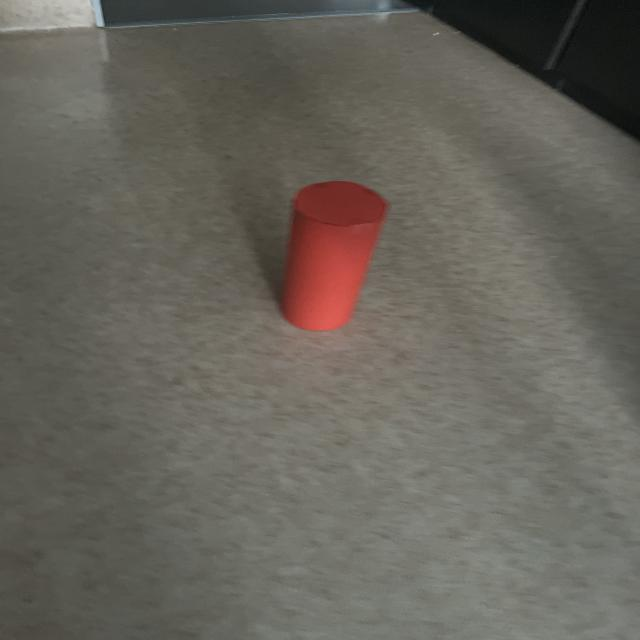przeszkoda: (282, 181, 387, 331)
